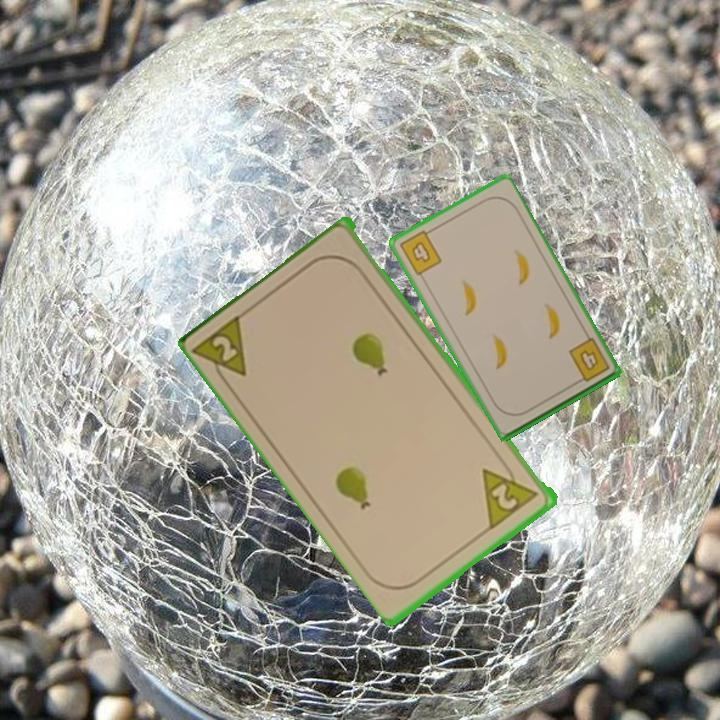2p: (478, 455, 544, 531), (191, 309, 251, 392)
4b: (395, 225, 444, 278), (565, 334, 612, 387)
